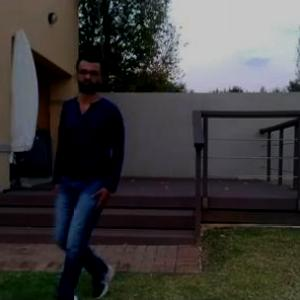follow: (47, 44, 138, 299)
